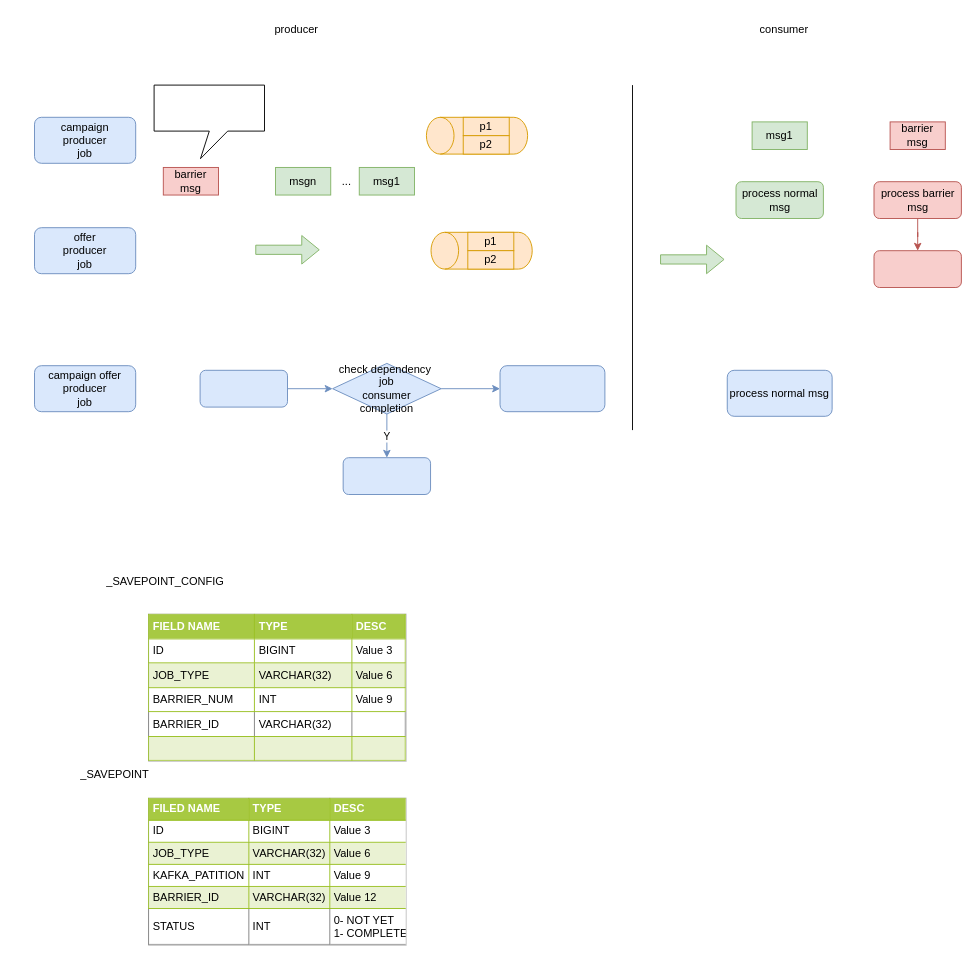
The diagram is 977 pixels wide and 961 high, and some of its shapes have lost their labels. Each missing label, with the box of its shape:
holder: (499, 365, 605, 412)
per partition generation: (153, 84, 264, 159)
query job dependency: (199, 369, 288, 407)
send campaign msg: (342, 457, 431, 494)
update handler job barrier table: (873, 250, 961, 288)
